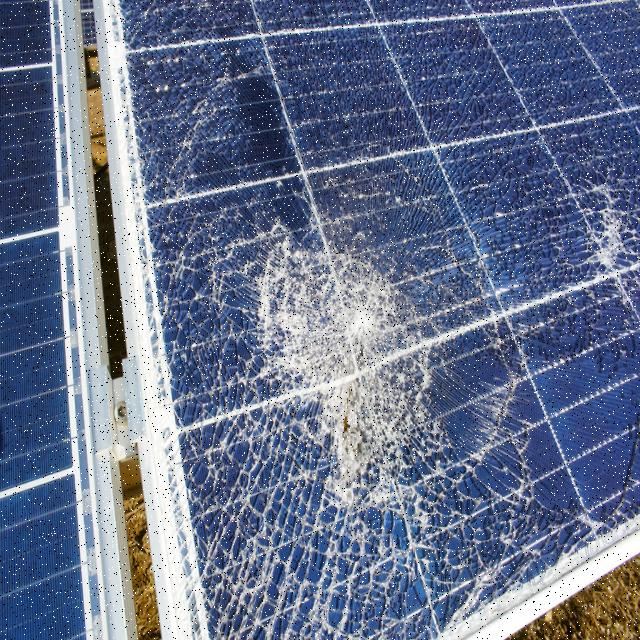electrical damage: (118, 6, 637, 640)
